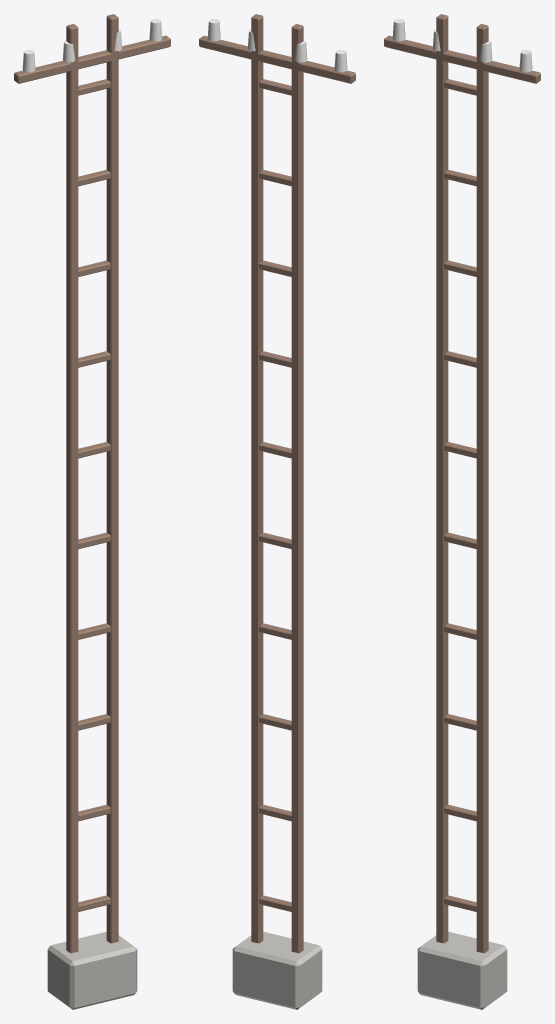
The model's file is Sultanbeyli_PowerPole_Steel.fbx.
The picture shows the model from 3 angles, left to right: view 1: azimuth 30°, elevation 25°; view 2: azimuth 150°, elevation 25°; view 3: azimuth 330°, elevation 25°; orthographic projection.
Visible parts, largest first — view 1: Sultanbeyli_PowerPole_Steel; view 2: Sultanbeyli_PowerPole_Steel; view 3: Sultanbeyli_PowerPole_Steel.
Part boxes in pixels (x1,y1,x2,y2): Sultanbeyli_PowerPole_Steel: [14, 14, 170, 1009]; Sultanbeyli_PowerPole_Steel: [199, 14, 355, 1009]; Sultanbeyli_PowerPole_Steel: [384, 14, 540, 1009].
Bounding box in the file's own units: 1.45 × 8.8 × 0.42.
